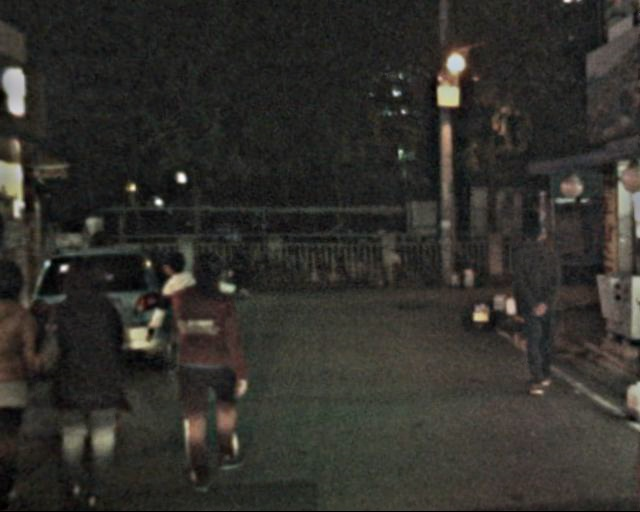person: (34, 243, 133, 501), (157, 244, 250, 489), (502, 209, 570, 402), (152, 239, 215, 415)
